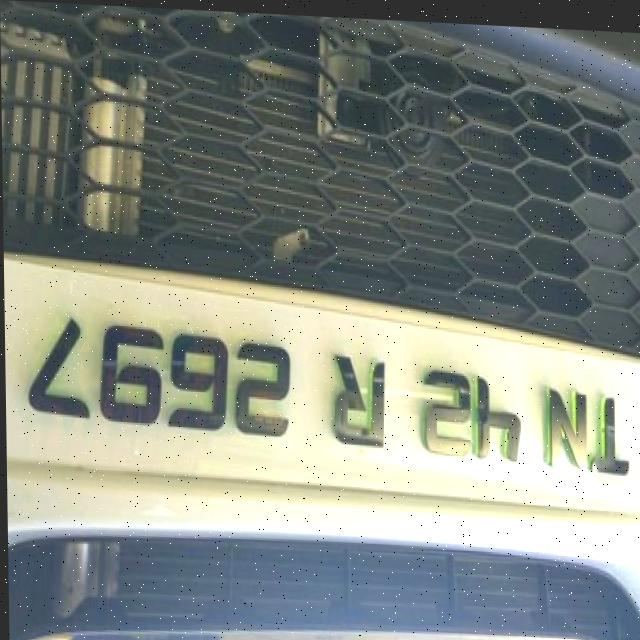plate: (3, 256, 640, 508)
